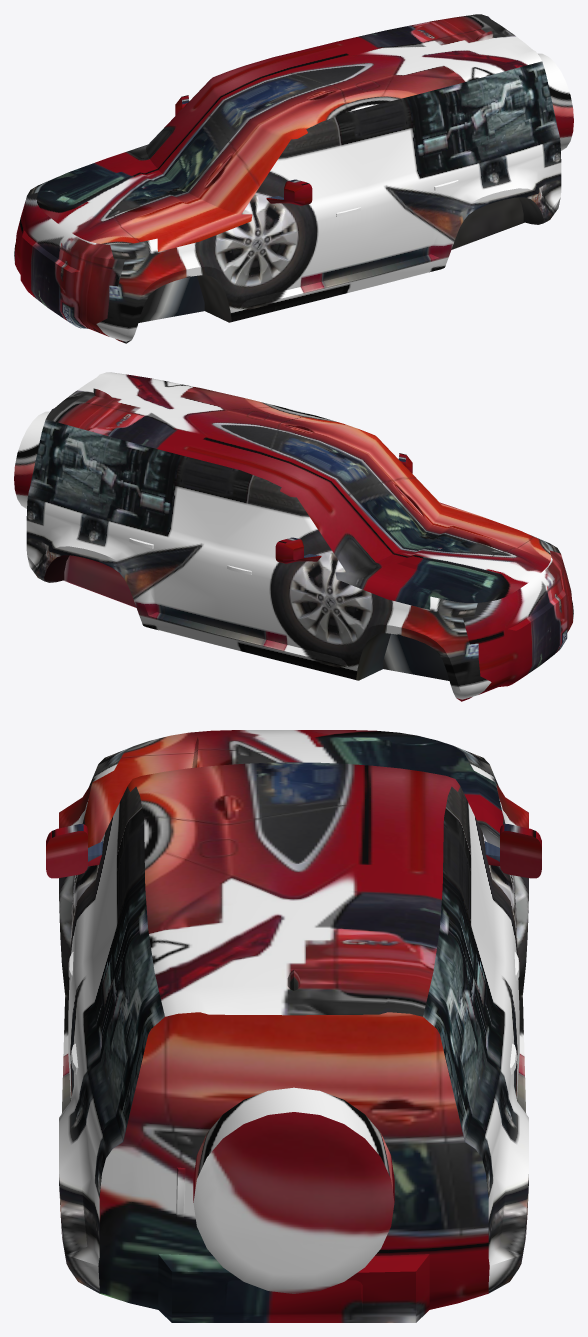
The model's file is Car02.fbx.
3 renders of one model, top to bottom at view 1: azimuth 30°, elevation 25°; view 2: azimuth 150°, elevation 25°; view 3: azimuth 270°, elevation 25°, orthographic. The views are drawn at different scales.
Visible parts, largest first — view 1: model1:Object_TexMap_1; view 2: model1:Object_TexMap_1; view 3: model1:Object_TexMap_1.
Boxes of the visible parts, x1,y1,x2,y2 form: model1:Object_TexMap_1: [14, 14, 573, 343]; model1:Object_TexMap_1: [14, 372, 573, 701]; model1:Object_TexMap_1: [46, 730, 541, 1322].
Size of the model in its own units: 2.5 by 0.8595 by 1.06.
